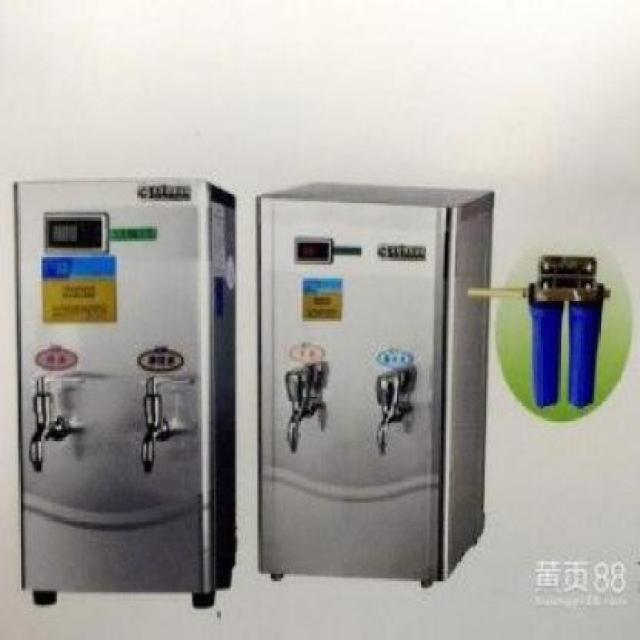cooler: (9, 175, 242, 620), (255, 175, 501, 596)
